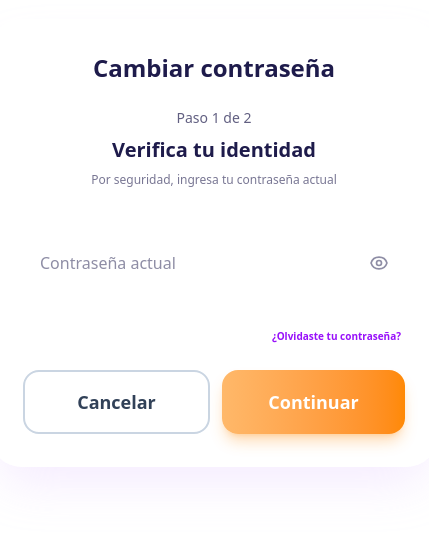
Test: ChangePasswordPage step 2 › allows returning from step 2 to step 1
Type "CurrentPassword123" into the password field with placeholder "Contraseña actual" at (214, 263), box [23,236,405,290]
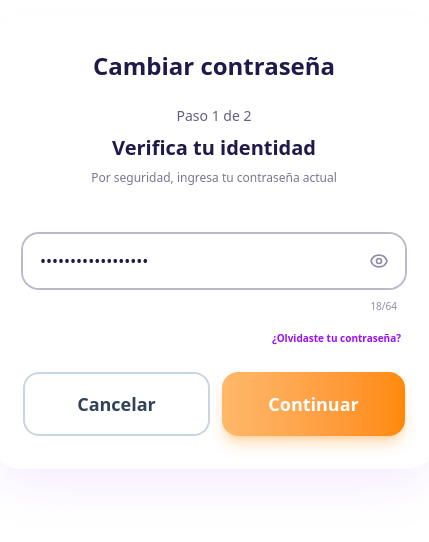
Click the button "Continuar" at (314, 404), box [222,372,405,436]
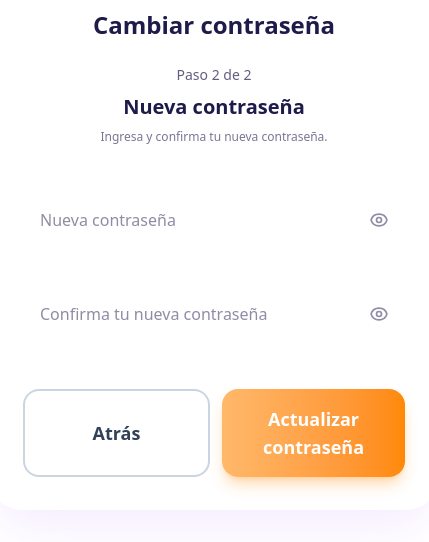
Now the text "Paso 2 de 2" is shown, box [176,65,252,84]
Click the button "Atrás" at (116, 433), box [23,389,210,477]
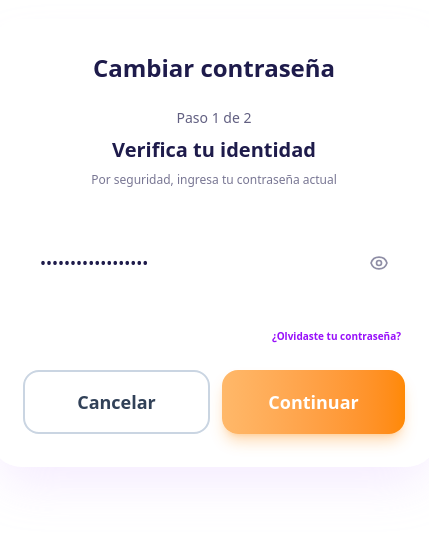
Now the text "Paso 1 de 2" is shown, box [176,108,252,127]
